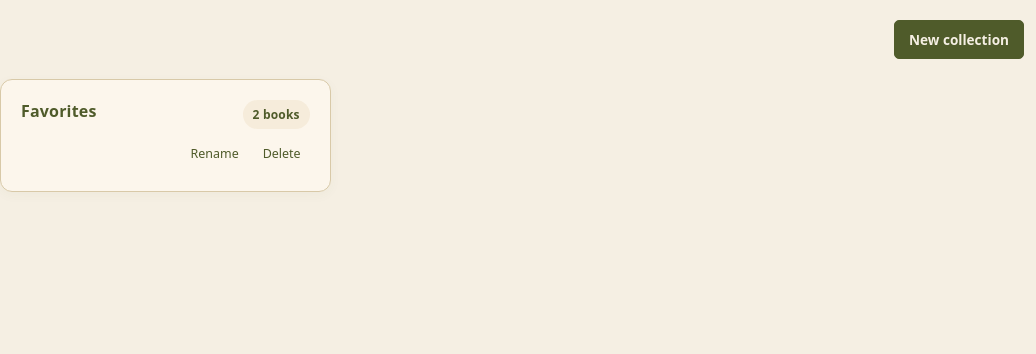
it: CollectionsManager › ignores a preexisting refresh after a successful delete and reloads confirmed data
Expected: the link "Favorites" is shown, [21,100,97,122]
Click the button with aria-label "Delete Favorites": (282, 154) [254,137,310,171]
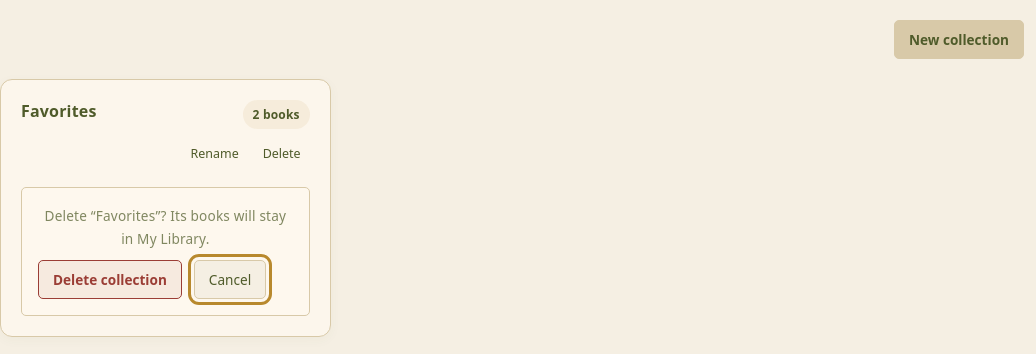
Click the button "Delete collection": (110, 280) [38,260,182,299]
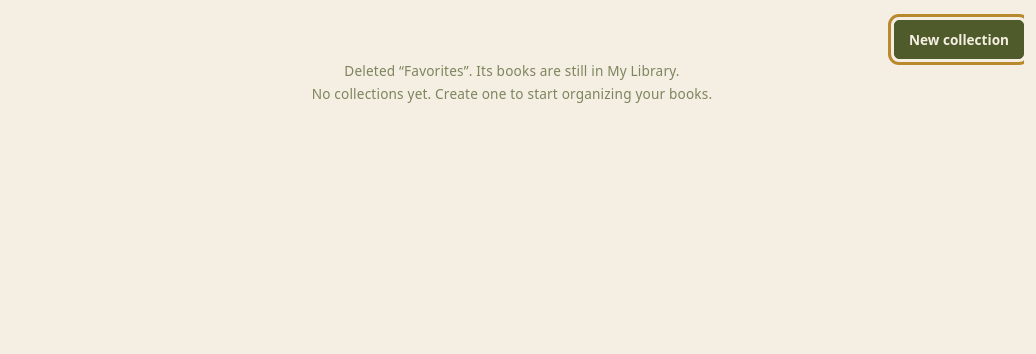
Expected: the text "No collections yet" is shown, [312,84,712,103]
Expected: the message shows "Deleted “Favorites”", [344,61,680,80]
